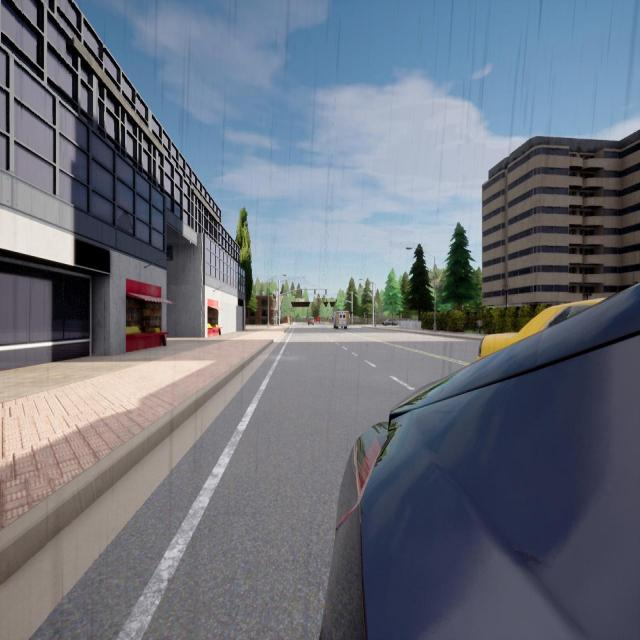Vehicle: (321, 284, 639, 638), (478, 298, 603, 359), (334, 311, 348, 329), (382, 318, 397, 326), (308, 317, 314, 325), (316, 317, 320, 323)
traffic_light: (314, 290, 316, 294), (301, 290, 302, 294), (318, 298, 319, 302), (326, 298, 327, 302), (351, 309, 352, 312), (336, 300, 337, 302), (326, 290, 326, 294)
